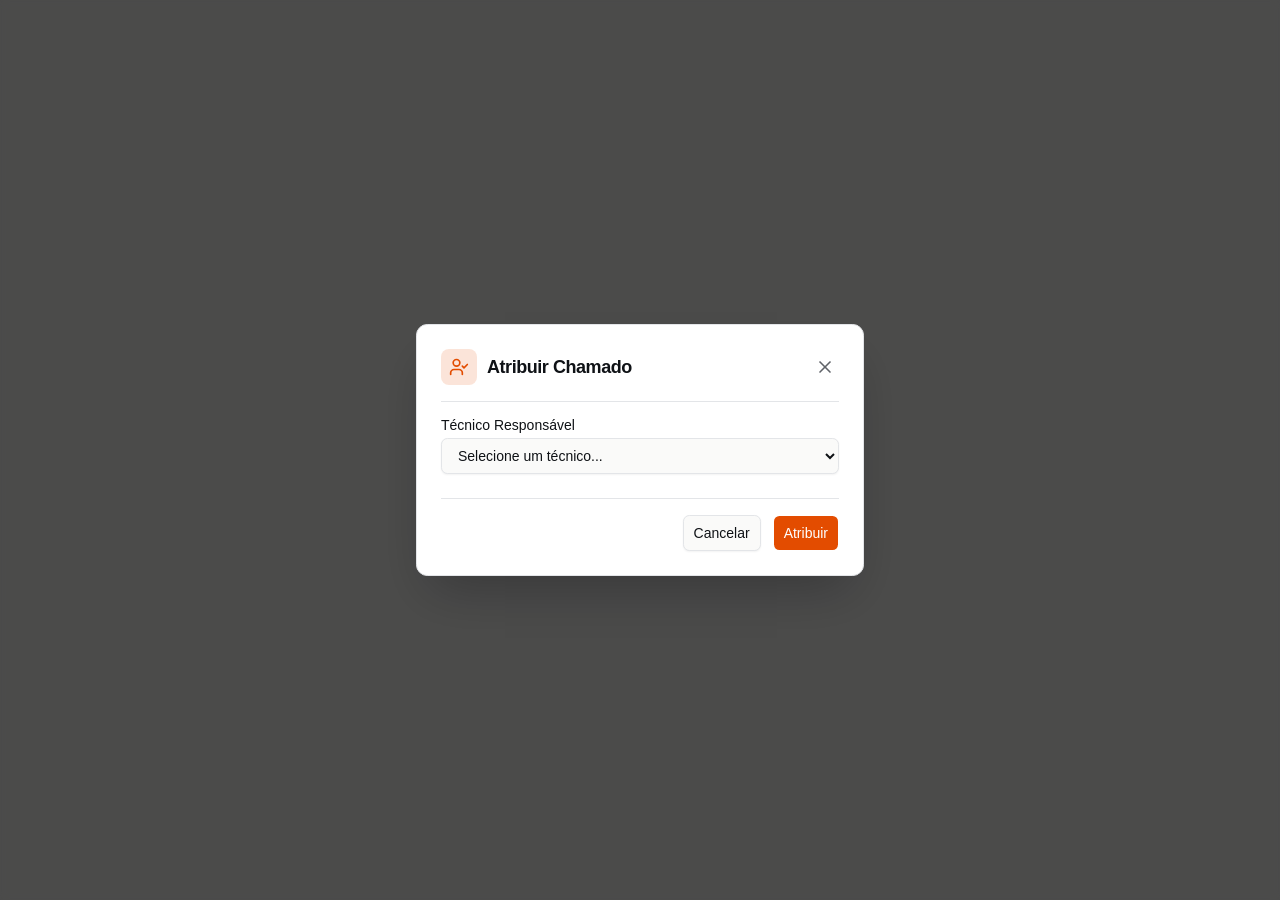
AssignTicketModal › deve exibir mensagem de validação se tentar salvar sem selecionar técnico
Click the button "Atribuir". click: (806, 533)
box: [773,515,839,551]
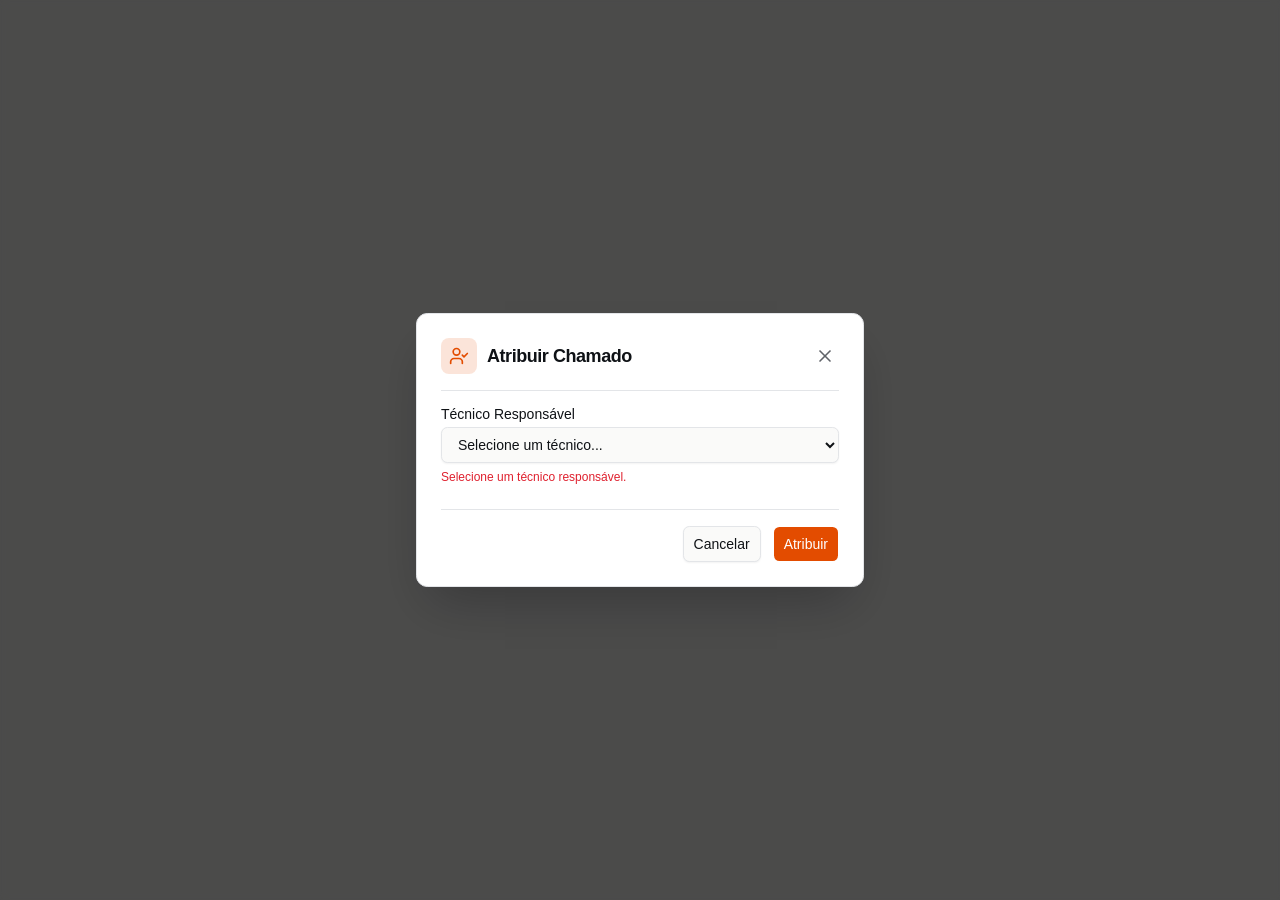
expect the text "Selecione um técnico responsável." is shown: met, box [441,470,626,484]
